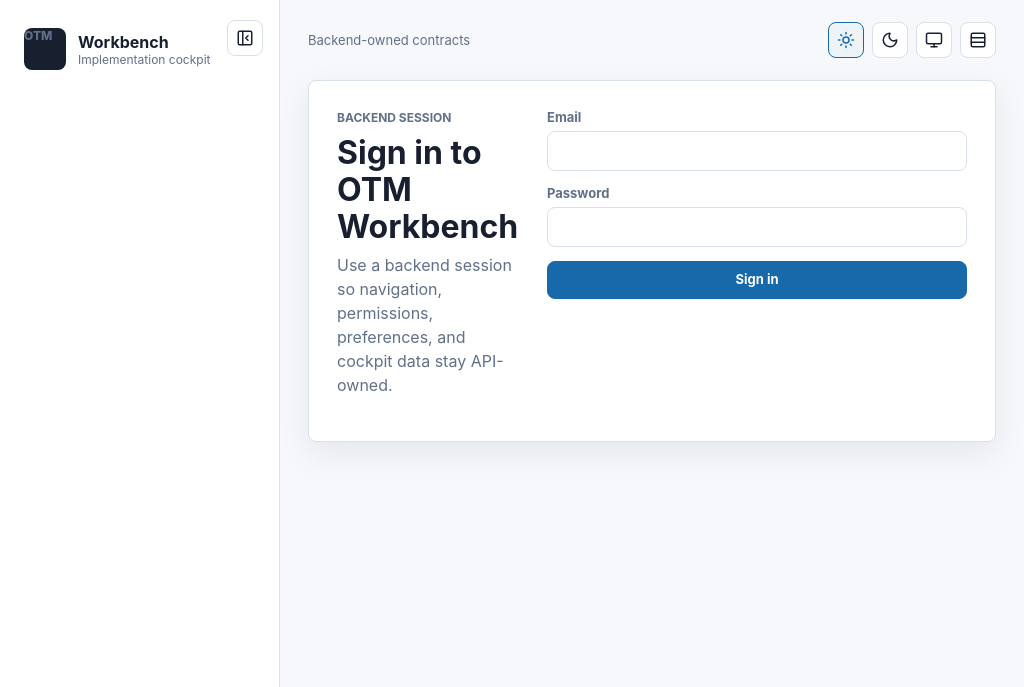
Test: Functional Assets Library journey › renders an asset detail route with metadata, versions, links, actions, and return paths
This screenshot has width=1024, height=687.
Type "admin@example.test" into the field labelled "Email" at (757, 151), box [547, 131, 967, 171]
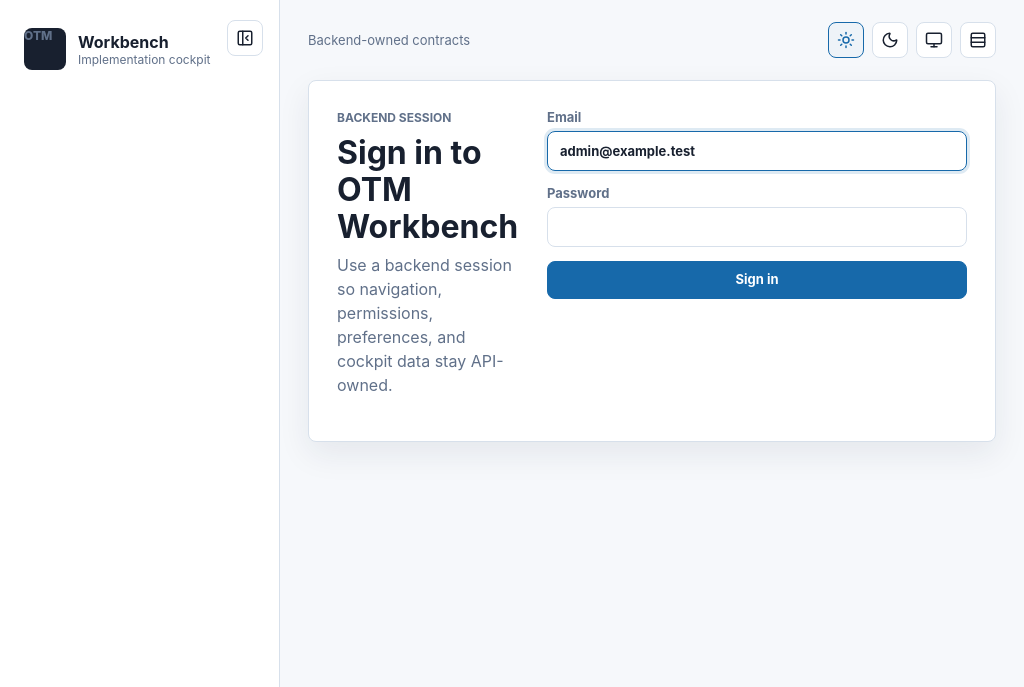
Type "SyntheticPass123!" into the password field labelled "Password" at (757, 227), box [547, 207, 967, 247]
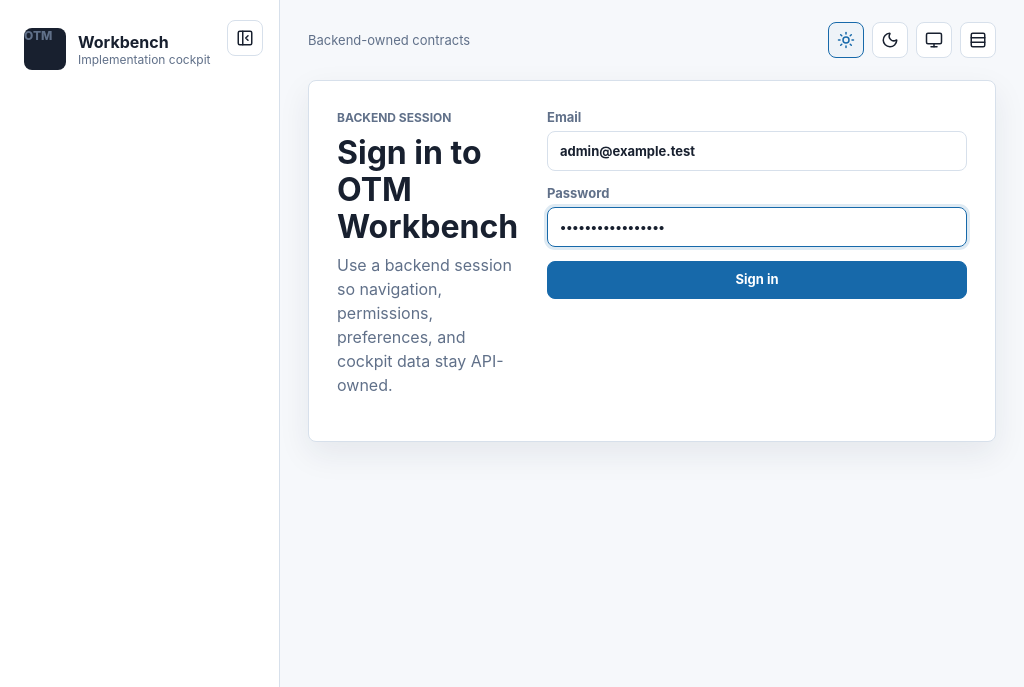
Click the button "Sign in" at (757, 280), box [547, 261, 967, 299]
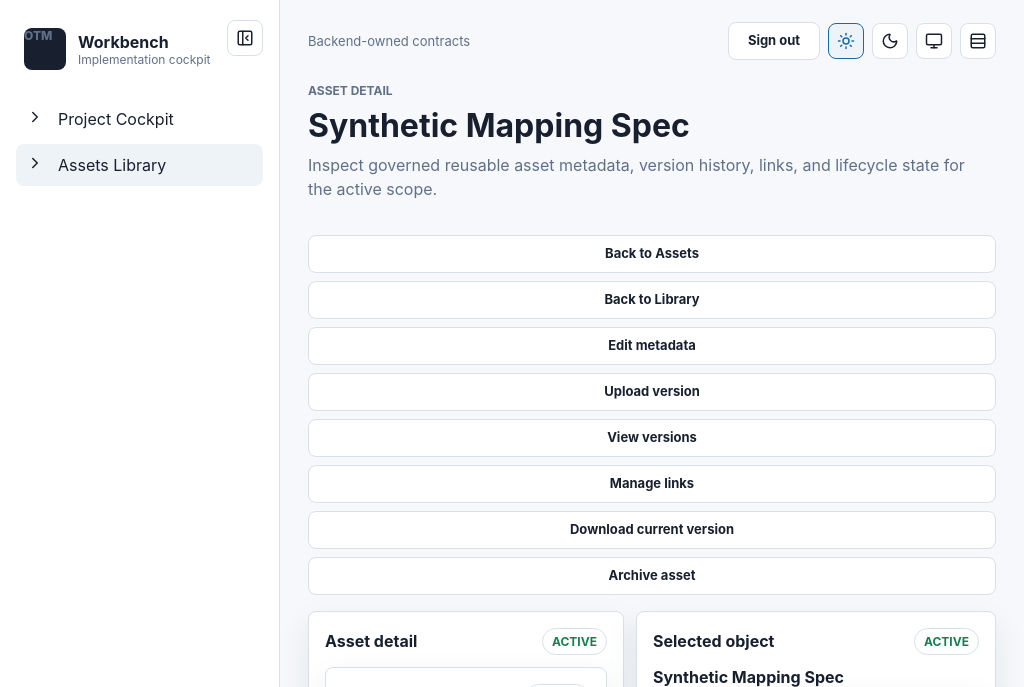
Expected: the heading "Synthetic Mapping Spec" is shown, [308, 106, 690, 145]
Expected: the text "Asset detail" is shown, [308, 83, 393, 98]
Click the button "Download current version" at (652, 530), box [308, 511, 996, 549]
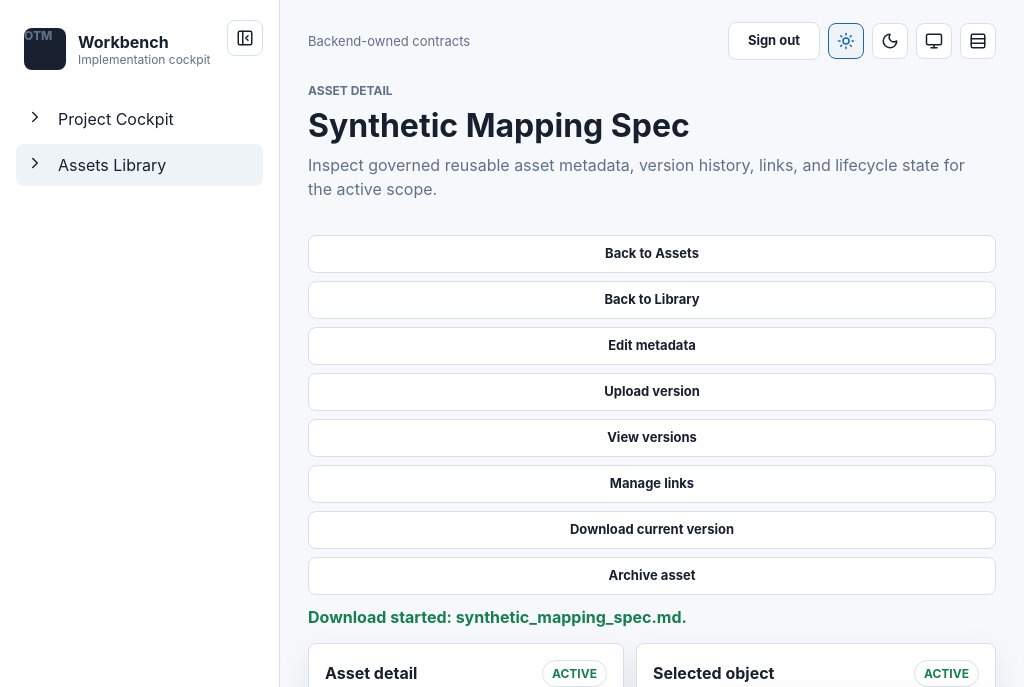
Expected: the text "Download started: synthetic_mapping_spec.md." is shown, [308, 607, 687, 627]
